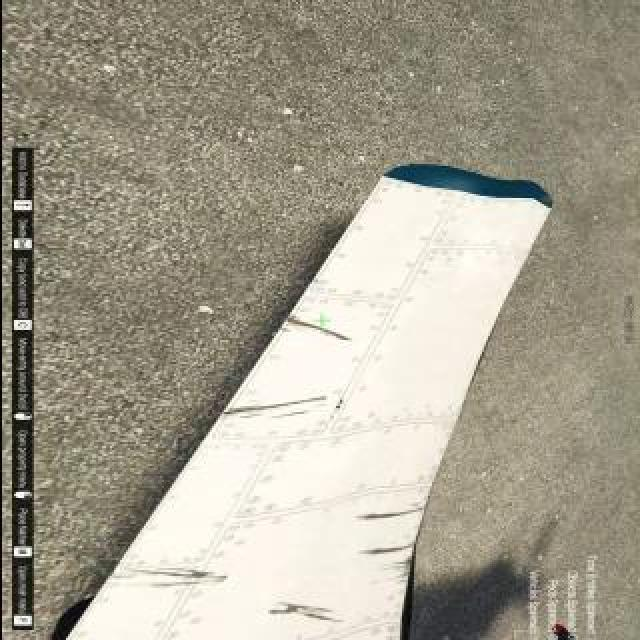dent: (223, 398, 325, 417), (287, 320, 351, 341), (270, 603, 332, 622), (357, 509, 423, 521), (149, 569, 211, 579), (360, 545, 412, 555), (268, 412, 309, 419)
